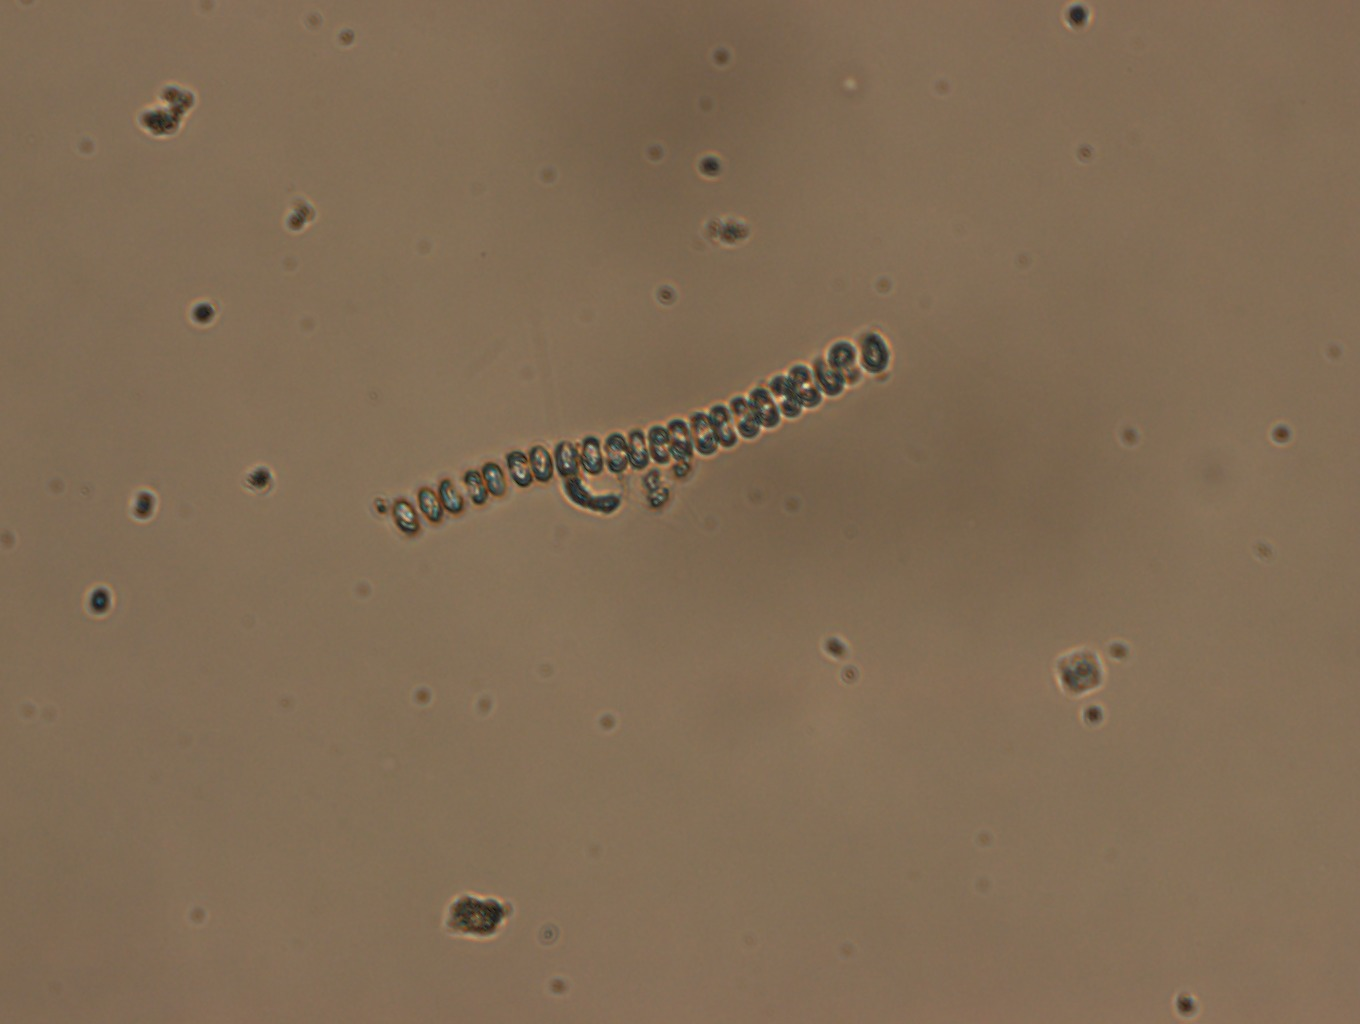skeletonema: (378, 314, 897, 545)
